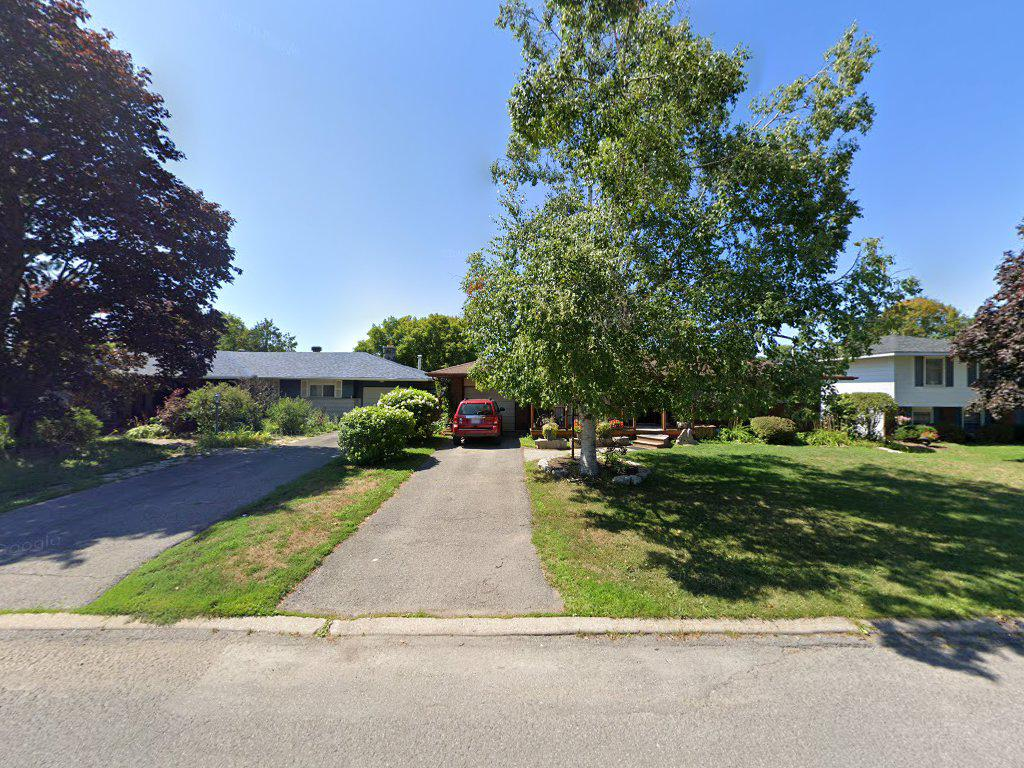trunk: (576, 398, 604, 492)
